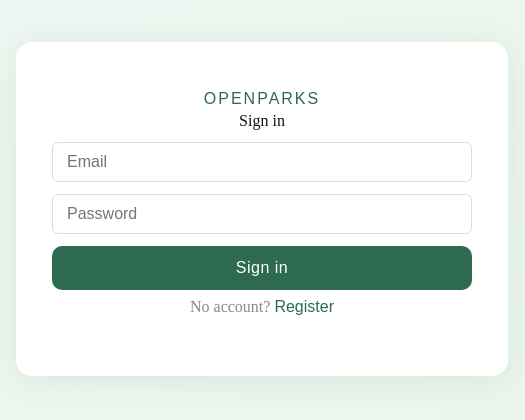
Test: LoginPage › switches to registration form when register link is clicked
The image size is (525, 420).
What coordinates should you click on to do the following:
click the button "Register"
I would click on:
 (304, 307)
Its box is [274,298,334,316].
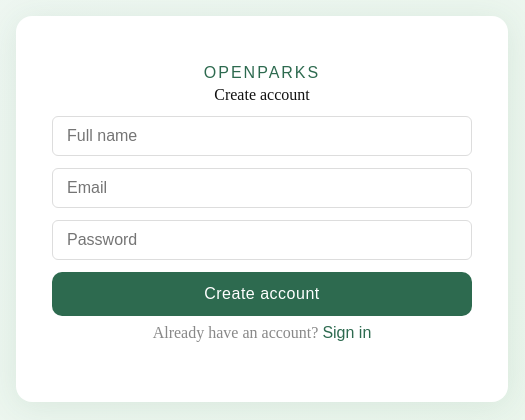
Result: the heading "Create account" is shown at [214,86,310,103]
Result: the field with placeholder "Full name" is shown at [52,116,472,156]
Result: the text "Already have an account?" is shown at [153,324,322,341]
